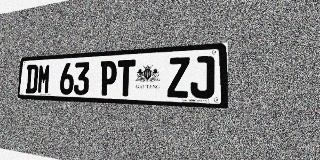3: (74, 62, 90, 95)
6: (59, 62, 75, 95)
D: (25, 64, 39, 94)
J: (190, 55, 214, 99)
M: (37, 64, 51, 94)
P: (99, 60, 117, 96)
T: (117, 59, 136, 96)
Z: (167, 57, 190, 98)
